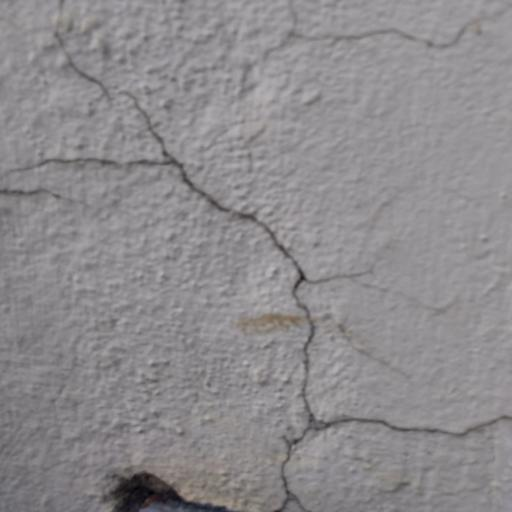minor_crack: (0, 17, 512, 512)
